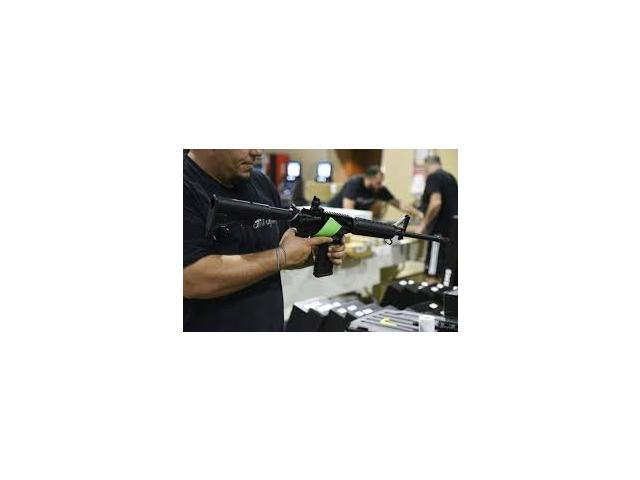rifle: (209, 190, 451, 277)
